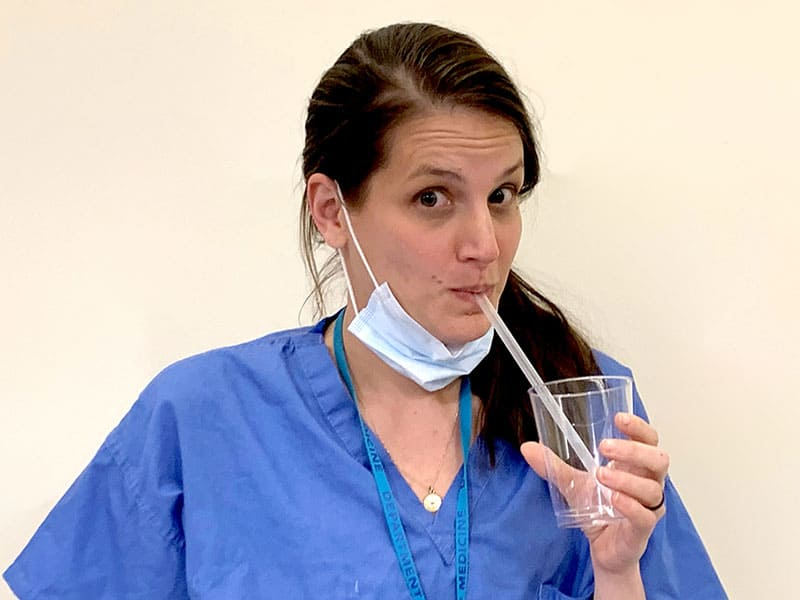with_incorrect_mask: (341, 113, 518, 392)
